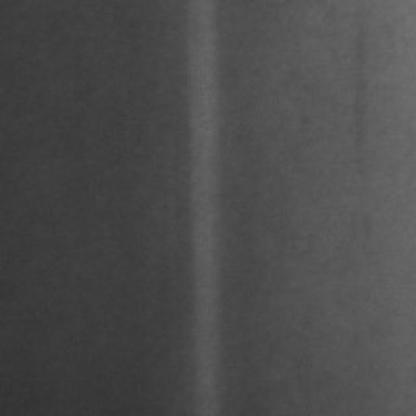scratches: (187, 14, 225, 393)
